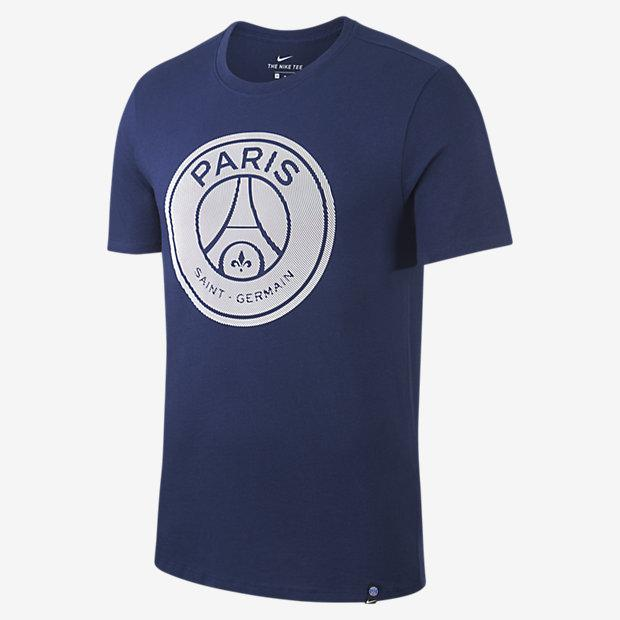teeshirt: (81, 17, 527, 620)
